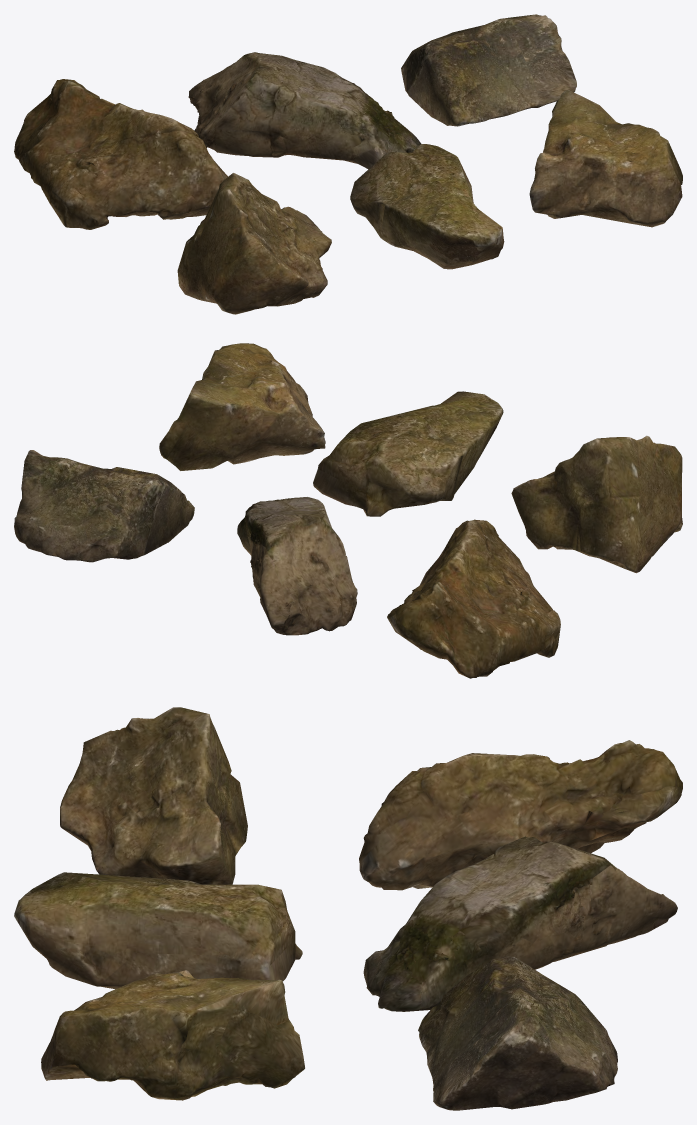
File: rocks2.glb
3 views of the same model, one above another, from view 1: azimuth 30°, elevation 25°; view 2: azimuth 150°, elevation 25°; view 3: azimuth 270°, elevation 25° (orthographic). The views are drawn at different scales.
Visible parts, largest first — view 1: rock_moss_set_01_rock01, rock_moss_set_01_rock02, rock_moss_set_01_rock06, rock_moss_set_01_rock04, rock_moss_set_01_rock03, rock_moss_set_01_rock05; view 2: rock_moss_set_01_rock04, rock_moss_set_01_rock01, rock_moss_set_01_rock05, rock_moss_set_01_rock03, rock_moss_set_01_rock06, rock_moss_set_01_rock02; view 3: rock_moss_set_01_rock01, rock_moss_set_01_rock02, rock_moss_set_01_rock05, rock_moss_set_01_rock04, rock_moss_set_01_rock06, rock_moss_set_01_rock03.
Boxes of the visible parts, x1,y1,x2,y2 form: rock_moss_set_01_rock01: (14,79,227,229); rock_moss_set_01_rock02: (188,52,421,169); rock_moss_set_01_rock06: (529,90,682,227); rock_moss_set_01_rock04: (177,173,331,314); rock_moss_set_01_rock03: (401,14,576,126); rock_moss_set_01_rock05: (350,144,504,269); rock_moss_set_01_rock04: (511,435,682,573); rock_moss_set_01_rock01: (387,519,560,678); rock_moss_set_01_rock05: (313,391,503,516); rock_moss_set_01_rock03: (14,450,194,562); rock_moss_set_01_rock06: (159,343,325,470); rock_moss_set_01_rock02: (237,497,357,635); rock_moss_set_01_rock01: (359,740,682,890); rock_moss_set_01_rock02: (363,836,677,1011); rock_moss_set_01_rock05: (14,872,302,989); rock_moss_set_01_rock04: (60,707,247,884); rock_moss_set_01_rock06: (41,970,304,1100); rock_moss_set_01_rock03: (418,956,617,1110).
Size of the model in its own units: 7.99 by 1.76 by 6.94.
Materials: 1 (1 with a texture image).
